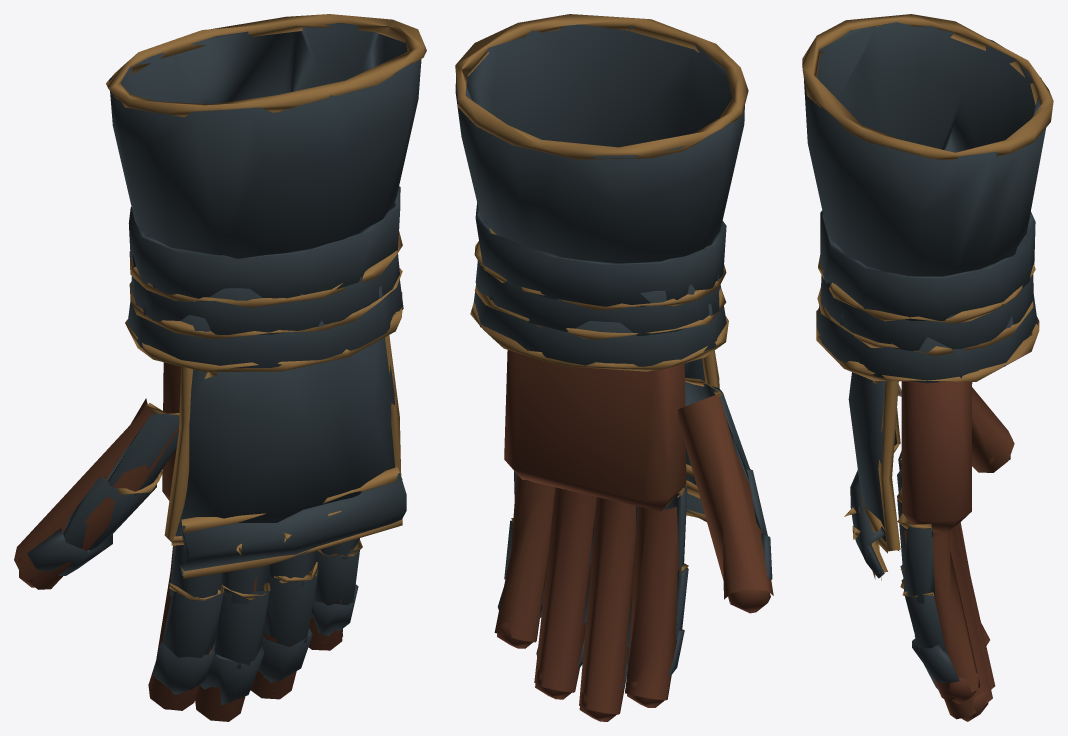
The picture shows the model from 3 angles, left to right: view 1: azimuth 30°, elevation 25°; view 2: azimuth 150°, elevation 25°; view 3: azimuth 270°, elevation 25°; orthographic projection. The views are drawn at different scales.
Visible parts, largest first — view 1: blackened lamellar plate, tanned leather; view 2: blackened lamellar plate, tanned leather; view 3: blackened lamellar plate, tanned leather.
Part boxes in pixels (bbox=[...]): blackened lamellar plate: bbox=[27, 14, 426, 705]; tanned leather: bbox=[14, 362, 342, 721]; blackened lamellar plate: bbox=[455, 14, 772, 687]; tanned leather: bbox=[494, 349, 773, 721]; blackened lamellar plate: bbox=[802, 14, 1053, 688]; tanned leather: bbox=[898, 381, 1014, 721].
Size of the model in its own units: 0.1668 by 0.3031 by 0.1055.
